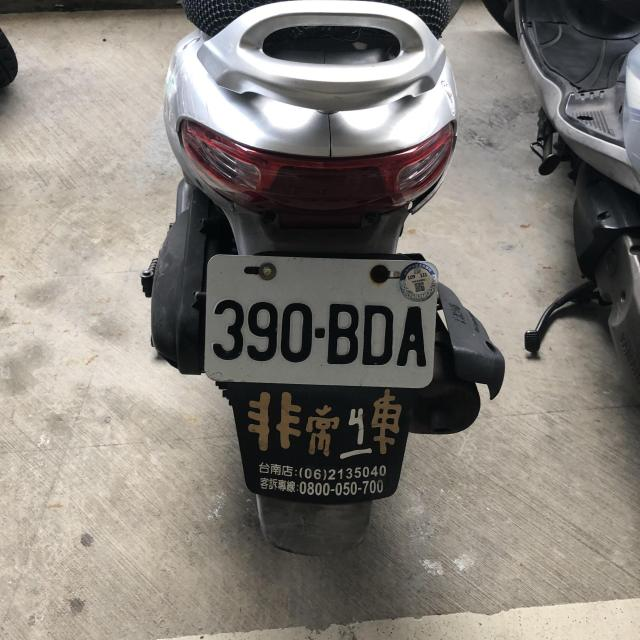W: (204, 254, 439, 387)
